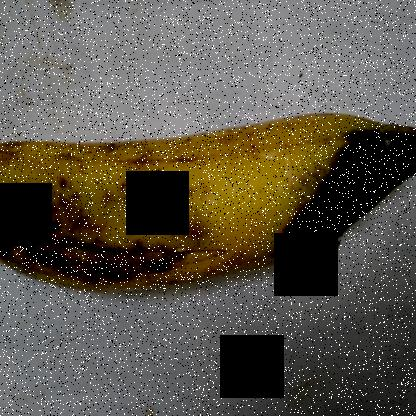rotten: (278, 85, 416, 328), (0, 175, 206, 290)
